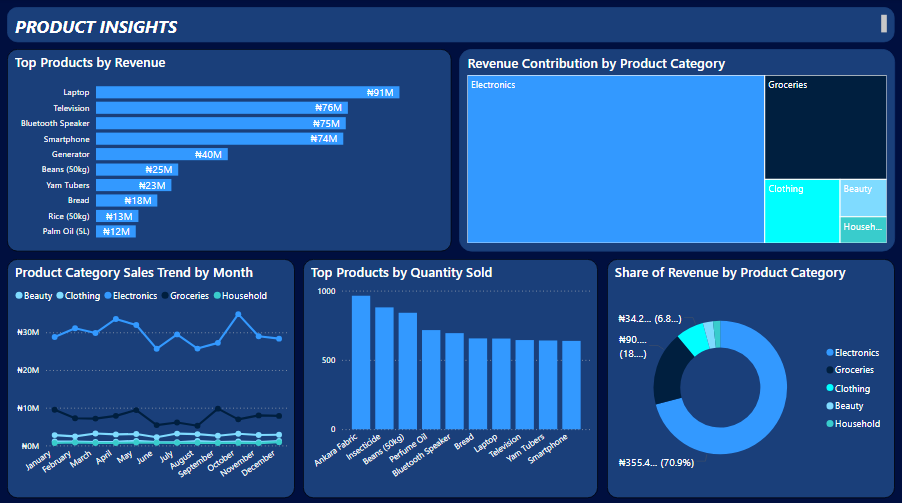

This screenshot's page, from the dashboard's own definition file:
{"tool":"powerbi","page":{"name":"Products","canvas":[1280,720],"ordinal":2},"visuals":[{"type":"textbox","box":[10.1,13.4,1258.2,50],"z":0},{"type":"barChart","title":"Top Products by Revenue","fields":{"Y":["Sum(rev by prod.Total_Revenue)"],"Category":["rev by prod.ProductName"]},"box":[10.1,72.2,629.9,287.2],"z":1000},{"type":"treemap","title":"Revenue Contribution by Product Category","fields":{"Group":["prod cat drill 1.Category","prod cat drill 1.ProductName"],"Values":["Sum(prod cat drill 1.Monthly_Revenue)"]},"box":[650.1,72.2,618.2,287.2],"z":2000},{"type":"lineChart","title":"Product Category Sales Trend by  Month","fields":{"Series":["montly rev by prod cat.Category"],"Y":["Sum(montly rev by prod cat.monthly_revenue)"],"Category":["montly rev by prod cat.MonthName"]},"box":[10.1,369.6,408.2,339.3],"z":3000},{"type":"donutChart","title":"Share of Revenue by Product Category","fields":{"Category":["rev share pct by prod cat.Category"],"Y":["Sum(rev share pct by prod cat.category_revenue)"]},"box":[860.1,369.6,408.2,339.3],"z":4000},{"type":"columnChart","title":"Top Products by Quantity Sold","fields":{"Category":["prod by qty sold.ProductName"],"Y":["Sum(prod by qty sold.Total_Quantity_Sold)"]},"box":[430,369.6,418.3,339.3],"z":5000}]}

Visuals, with their boxes in screenshot pixels (x1, y1, x2, y2), scaled from the page's 1280x720 canvas onto the 902x503 screenshot:
textbox: box(7, 9, 894, 44)
"Top Products by Revenue" barChart: box(7, 50, 451, 251)
"Revenue Contribution by Product Category" treemap: box(458, 50, 894, 251)
"Product Category Sales Trend by  Month" lineChart: box(7, 258, 295, 495)
"Share of Revenue by Product Category" donutChart: box(606, 258, 894, 495)
"Top Products by Quantity Sold" columnChart: box(303, 258, 598, 495)
